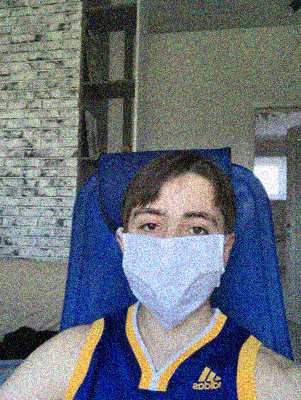with_mask: (121, 205, 227, 330)
